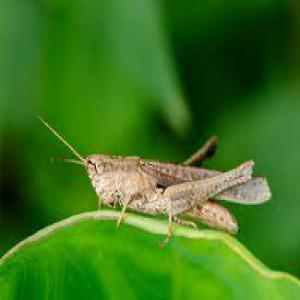locust: (39, 116, 298, 231)
